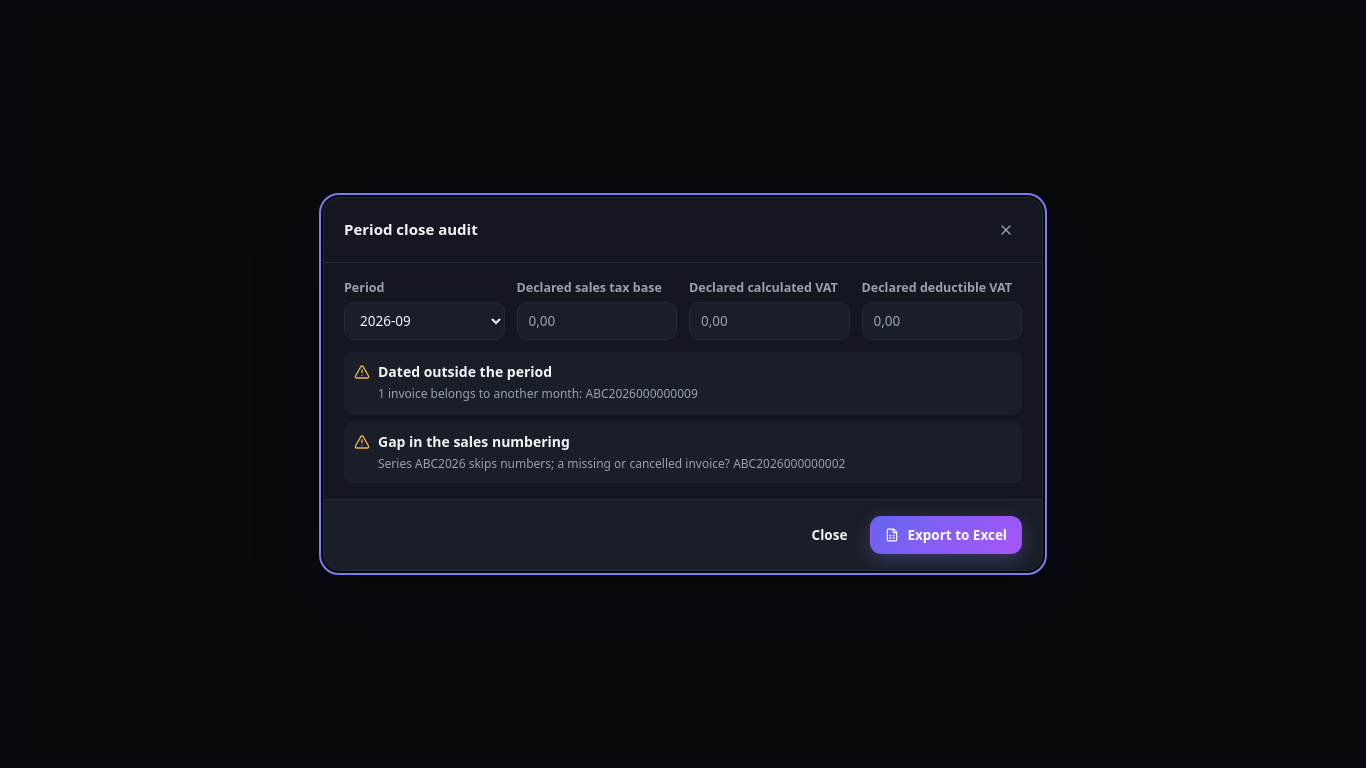
Test: period close audit › opens on the busiest month, lists the findings and compares the declaration
Expected: the dropdown labelled "Period" shows "2026-09", [344,302,504,340]
Expected: the text "Gap in the sales numbering" is shown, [378,432,570,451]
In the field labelled "Declared deductible VAT": (942, 321) [862,302,1022,340], type "90"
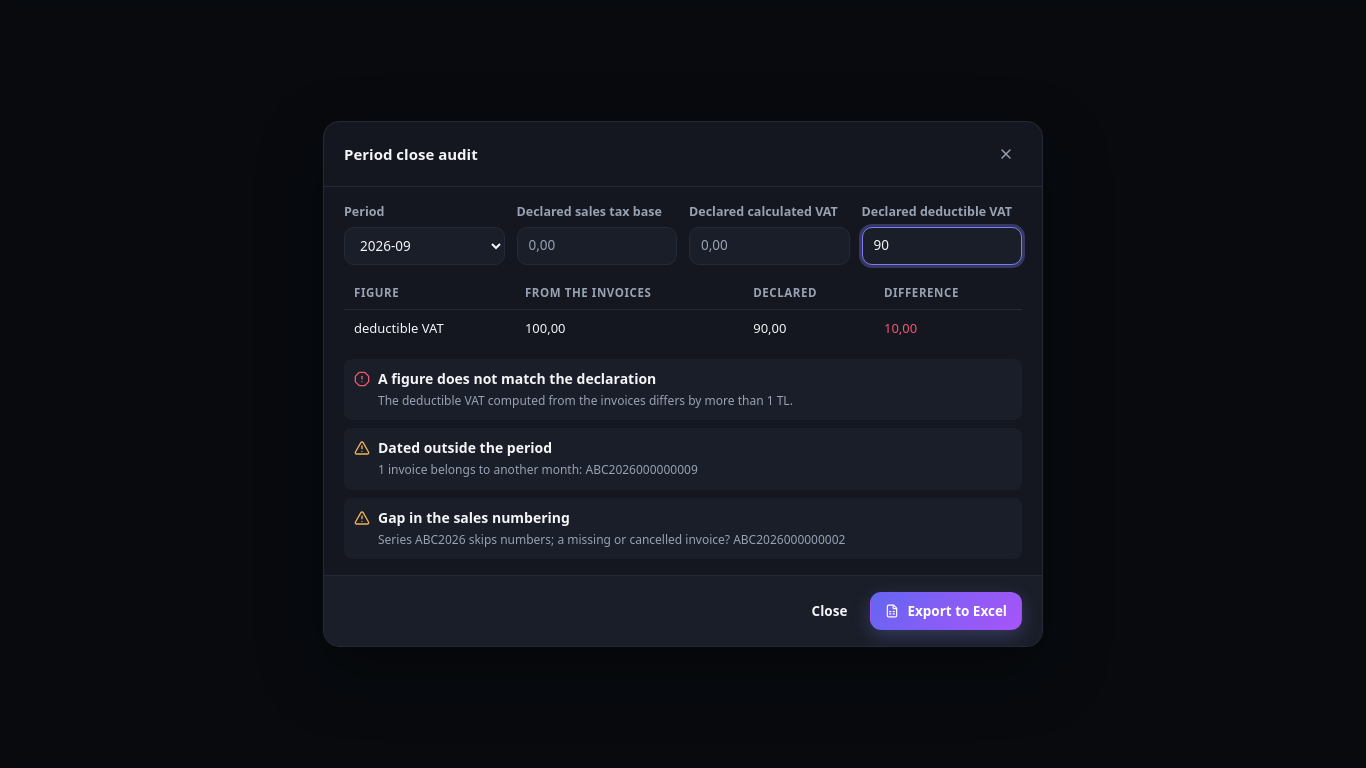
Expected: the text "A figure does not match the declaration" is shown, [378,369,656,388]
Expected: the cell "10,00" is shown, [874,310,1022,347]
